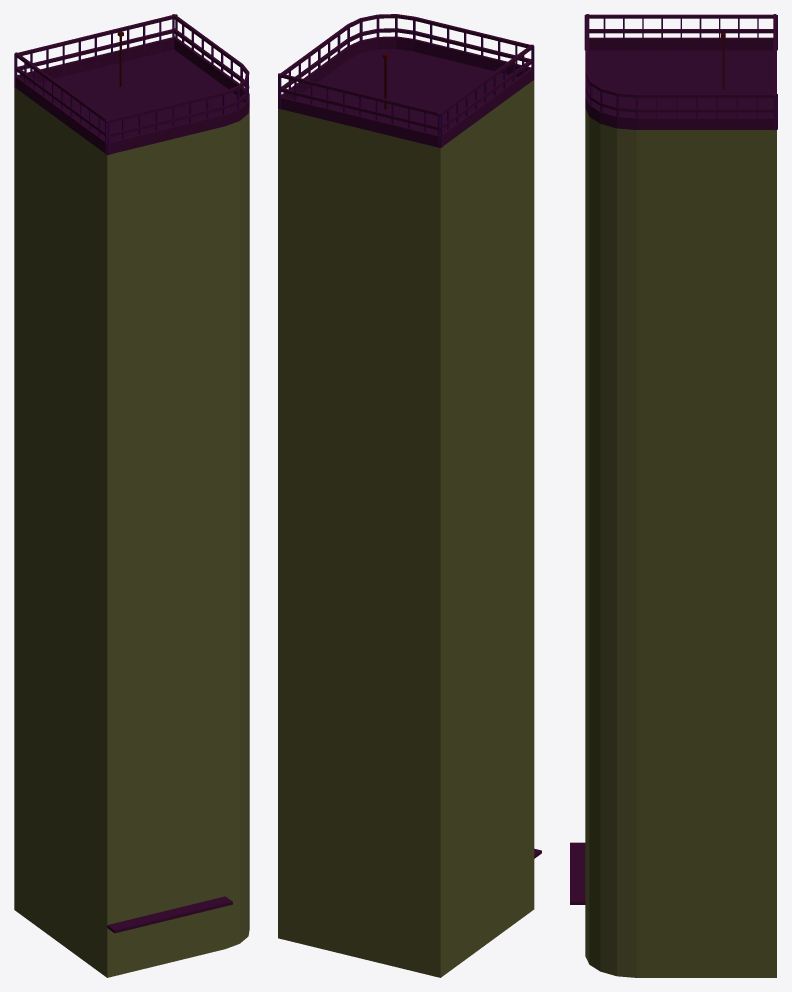
The model's file is commercial_e.glb.
3 views of the same model, side by side, from view 1: azimuth 30°, elevation 25°; view 2: azimuth 150°, elevation 25°; view 3: azimuth 270°, elevation 25° (orthographic). The views are drawn at different scales.
Visible parts, largest first — view 1: commercial_e; view 2: commercial_e; view 3: commercial_e.
Boxes of the visible parts, x1,y1,x2,y2 form: commercial_e: [14, 14, 249, 977]; commercial_e: [278, 14, 541, 977]; commercial_e: [570, 14, 777, 977].
Size of the model in its own units: 15.12 by 78.01 by 16.26.
